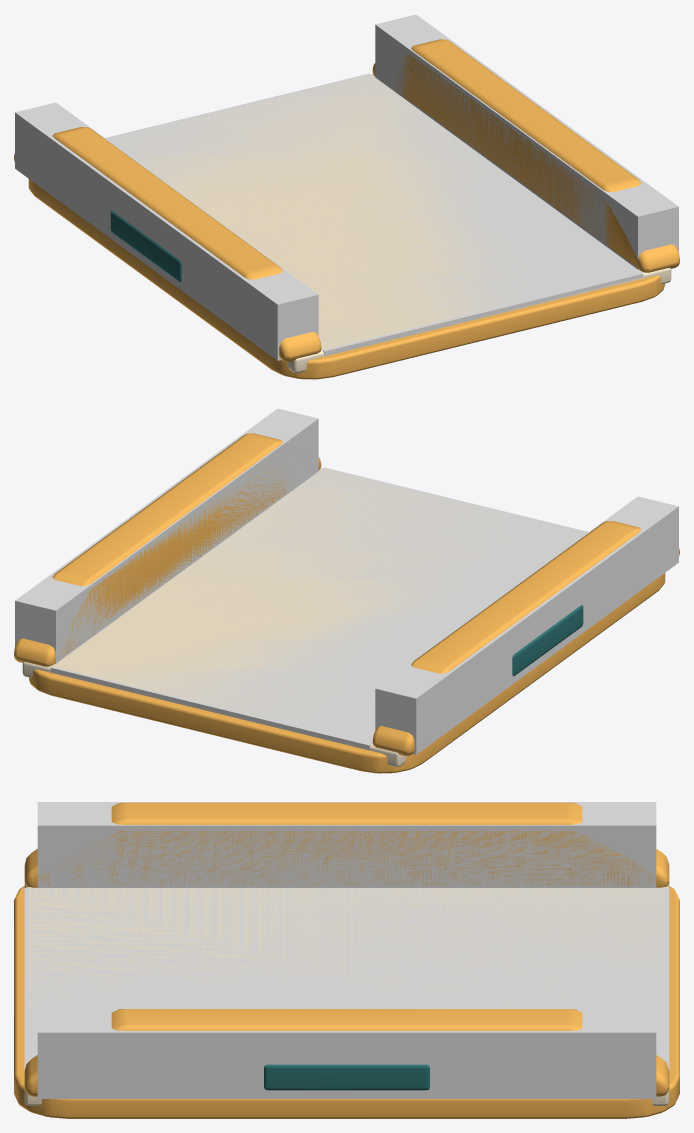
File: A10_ShallowTray.fbx
The picture shows the model from 3 angles, top to bottom: view 1: azimuth 30°, elevation 25°; view 2: azimuth 150°, elevation 25°; view 3: azimuth 270°, elevation 25°; orthographic projection. The views are drawn at different scales.
Parts seen in each view (by area): view 1: Pan / smooth vanilla floor, COL_TrayFloor, COL_SideWall_L, Pan / soft side rail R, COL_SideWall_R, Pan / honey underside, Pan / soft side rail L, Pan / petrol grip L; view 2: COL_TrayFloor, Pan / smooth vanilla floor, COL_SideWall_L, Pan / soft side rail R, COL_SideWall_R, Pan / honey underside, Pan / soft side rail L, Pan / petrol grip L; view 3: COL_TrayFloor, COL_SideWall_L, COL_SideWall_R, Pan / smooth vanilla floor, Pan / soft side rail L, Pan / honey underside, Pan / soft side rail R, Pan / petrol grip R.
Part boxes in pixels (left/top/right/bottom): Pan / smooth vanilla floor: left=109, top=74, right=671, bottom=372; COL_TrayFloor: left=105, top=73, right=643, bottom=356; COL_SideWall_L: left=15, top=102, right=318, bottom=360; Pan / soft side rail R: left=372, top=39, right=679, bottom=272; COL_SideWall_R: left=375, top=14, right=678, bottom=269; Pan / honey underside: left=28, top=179, right=664, bottom=379; Pan / soft side rail L: left=14, top=127, right=321, bottom=361; Pan / petrol grip L: left=110, top=211, right=181, bottom=282; COL_TrayFloor: left=50, top=467, right=588, bottom=750; Pan / smooth vanilla floor: left=22, top=468, right=569, bottom=766; COL_SideWall_L: left=375, top=496, right=678, bottom=754; Pan / soft side rail R: left=14, top=433, right=321, bottom=666; COL_SideWall_R: left=15, top=408, right=318, bottom=663; Pan / honey underside: left=29, top=573, right=665, bottom=773; Pan / soft side rail L: left=372, top=521, right=679, bottom=755; Pan / petrol grip L: left=512, top=605, right=583, bottom=676; COL_TrayFloor: left=24, top=888, right=669, bottom=1070; COL_SideWall_L: left=37, top=802, right=656, bottom=887; COL_SideWall_R: left=37, top=1009, right=656, bottom=1098; Pan / smooth vanilla floor: left=24, top=883, right=669, bottom=1105; Pan / soft side rail L: left=24, top=802, right=669, bottom=887; Pan / honey underside: left=14, top=886, right=679, bottom=1118; Pan / soft side rail R: left=24, top=1009, right=669, bottom=1096; Pan / petrol grip R: left=264, top=1064, right=429, bottom=1090.
Size of the model in its own units: 0.256 by 0.049 by 0.31.
